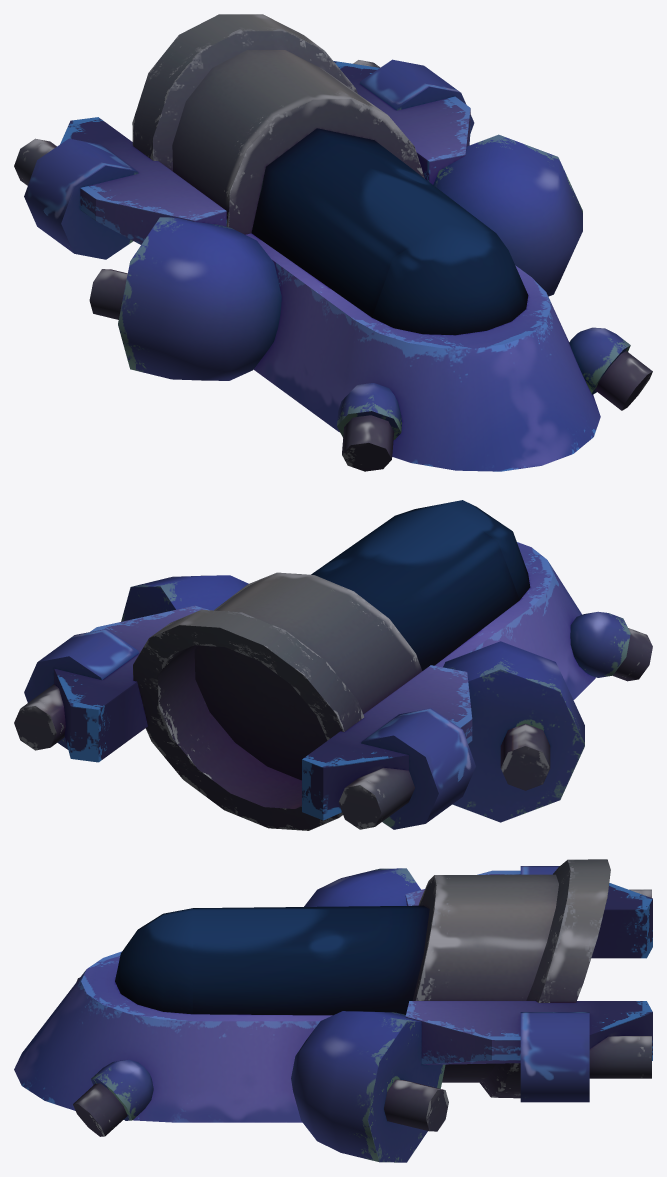
File: enemy1.fbx
3 renders of one model, top to bottom at view 1: azimuth 30°, elevation 25°; view 2: azimuth 150°, elevation 25°; view 3: azimuth 270°, elevation 25°, orthographic. The views are drawn at different scales.
Visible parts, largest first — view 1: enemy1_body, enemy1_cockpit, enemy1_engine, enemy1_thruster_Arm_Right, enemy1_thruster_Arm_Left, enemy1_wing_Right, enemy1_engineCylinder_Right, enemy1_wing_Left, enemy1_thrusterFront_Right, enemy1_thrusterFront_Left, enemy1_engineCylinder_Left, enemy1_thruster_Right (+1 smaller); view 2: enemy1_engine, enemy1_cockpit, enemy1_thruster_Arm_Right, enemy1_wing_Right, enemy1_wing_Left, enemy1_engineCylinder_Right, enemy1_body, enemy1_thrusterFront_Right, enemy1_engineCylinder_Left, enemy1_thruster_Arm_Left, enemy1_engineRod_Right, enemy1_thruster_Right (+1 smaller); view 3: enemy1_cockpit, enemy1_body, enemy1_engine, enemy1_thruster_Arm_Left, enemy1_wing_Left, enemy1_engineCylinder_Left, enemy1_wing_Right, enemy1_thrusterFront_Left, enemy1_thruster_Arm_Right, enemy1_thruster_Left, enemy1_engineRod_Left.
Boxes of the visible parts, x1,y1,x2,y2 form: enemy1_body: (245, 233, 600, 471); enemy1_cockpit: (251, 128, 528, 335); enemy1_engine: (132, 14, 424, 234); enemy1_thruster_Arm_Right: (118, 217, 281, 380); enemy1_thruster_Arm_Left: (433, 134, 582, 296); enemy1_wing_Right: (60, 117, 226, 244); enemy1_engineCylinder_Right: (24, 138, 138, 259); enemy1_wing_Left: (333, 61, 470, 184); enemy1_thrusterFront_Right: (337, 383, 401, 471); enemy1_thrusterFront_Left: (569, 327, 652, 410); enemy1_engineCylinder_Left: (360, 59, 474, 133); enemy1_thruster_Right: (89, 269, 127, 319); enemy1_engine: (133, 572, 421, 830); enemy1_cockpit: (311, 500, 530, 670); enemy1_thruster_Arm_Right: (443, 641, 584, 822); enemy1_wing_Right: (302, 665, 472, 820); enemy1_wing_Left: (54, 605, 209, 762); enemy1_engineCylinder_Right: (361, 708, 475, 829); enemy1_body: (434, 542, 595, 699); enemy1_thrusterFront_Right: (570, 611, 652, 681); enemy1_engineCylinder_Left: (24, 629, 138, 749); enemy1_thruster_Arm_Left: (121, 575, 248, 621); enemy1_engineRod_Right: (338, 767, 414, 829); enemy1_thruster_Right: (500, 723, 550, 790); enemy1_cockpit: (115, 905, 429, 1015); enemy1_body: (14, 951, 332, 1122); enemy1_engine: (412, 859, 610, 1098); enemy1_thruster_Arm_Left: (291, 1011, 445, 1162); enemy1_wing_Left: (405, 1001, 652, 1064); enemy1_engineCylinder_Left: (520, 1012, 589, 1102); enemy1_wing_Right: (405, 870, 652, 958); enemy1_thrusterFront_Left: (73, 1059, 153, 1136); enemy1_thruster_Arm_Right: (304, 868, 420, 906); enemy1_thruster_Left: (384, 1079, 448, 1131); enemy1_engineRod_Left: (589, 1036, 651, 1078).
Bounding box in the file's own units: 2.34 × 1.13 × 3.01.
